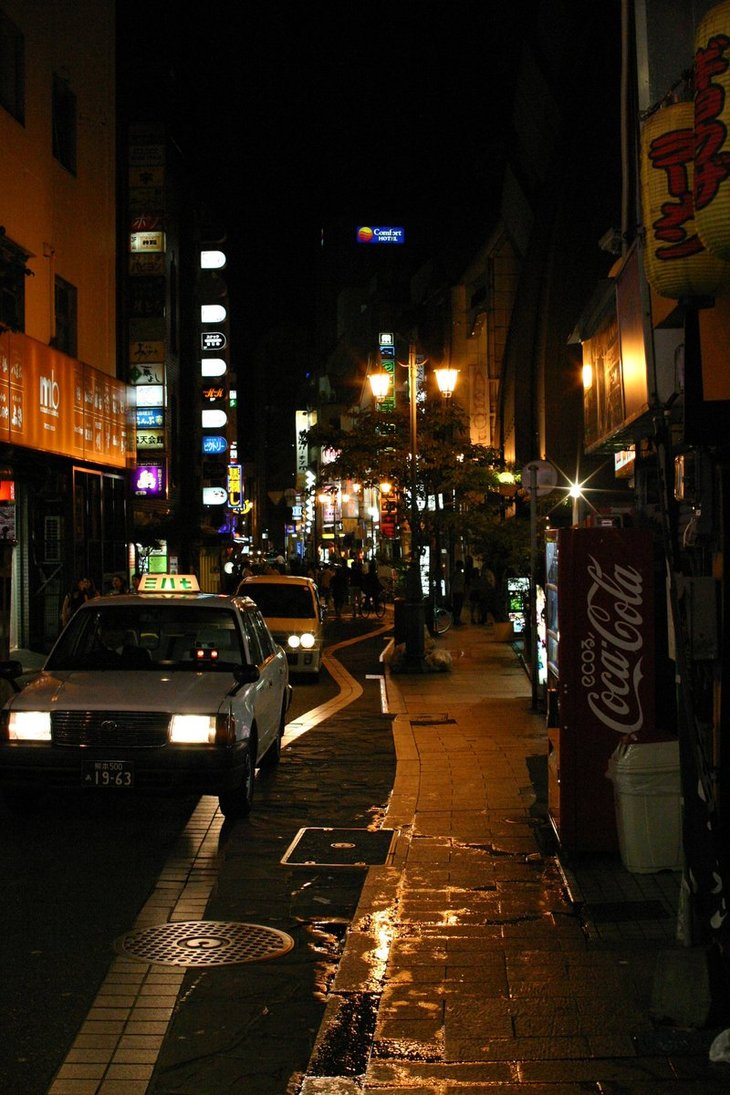car: (234, 558, 331, 683)
